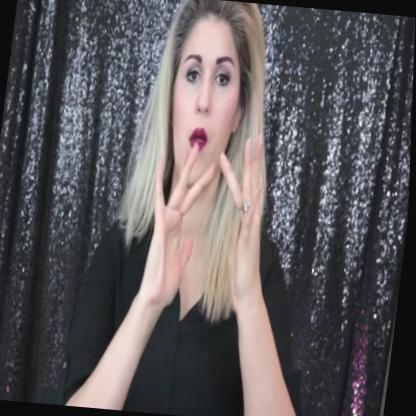Internet: (119, 124, 287, 320)
